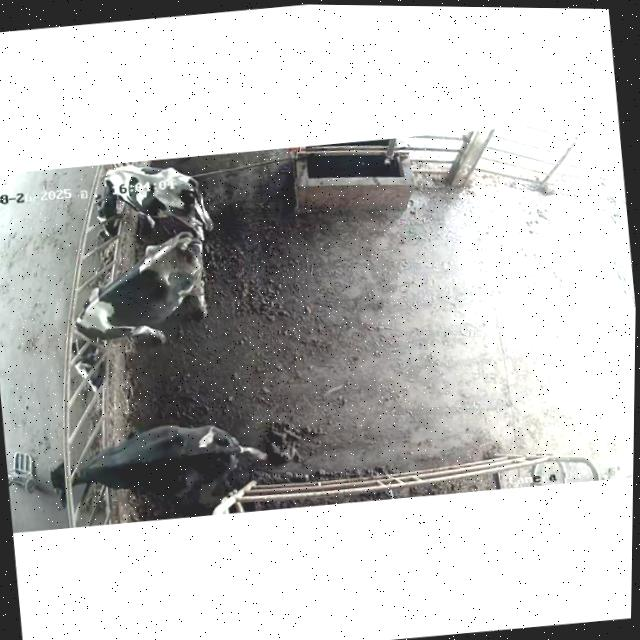eat: (46, 272, 134, 394), (33, 437, 137, 513), (68, 162, 149, 238)
